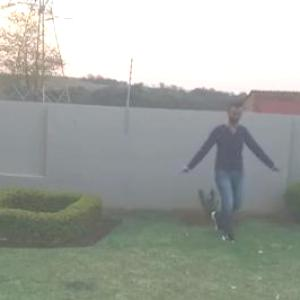land: (185, 114, 277, 242)
